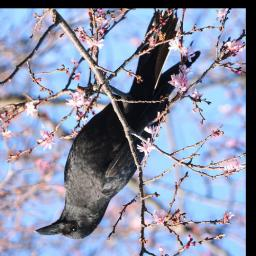Crow: (35, 13, 201, 242)
